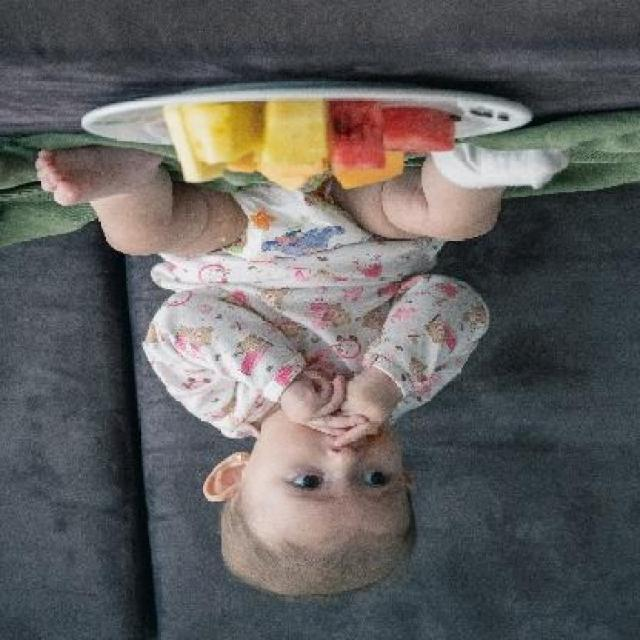non-dog: (37, 126, 572, 598)
